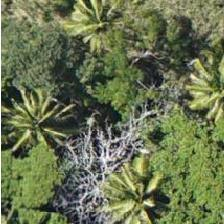coconut_tree: (0, 68, 83, 158), (94, 157, 184, 223), (174, 32, 223, 122)
